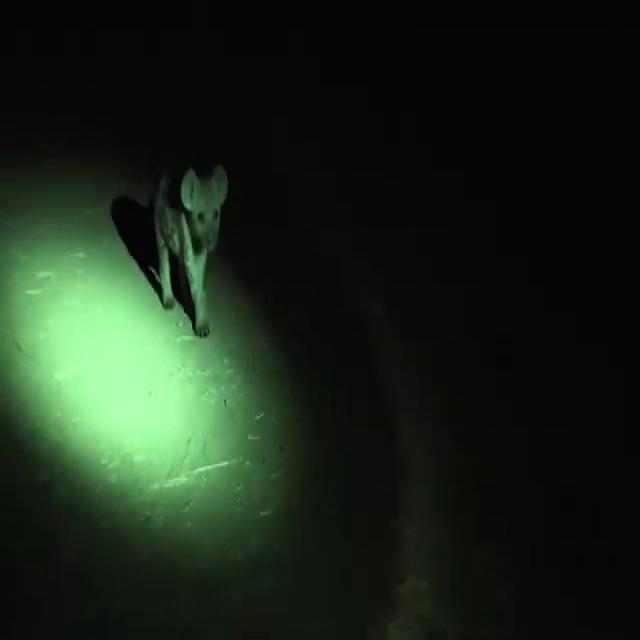animal: (104, 125, 271, 362)
